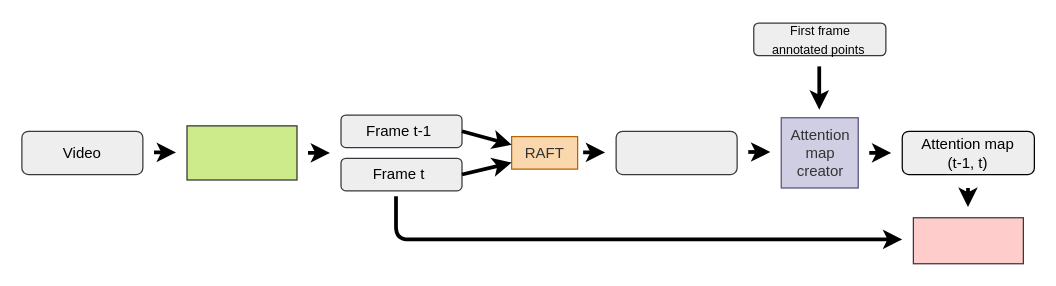
Some shapes in this 1056 by 286 pixel diagram are drawn without their labels. The centre of each missing label's shape, as x and y in pixels:
"Frame extractor" belongs at (241,152).
"Optical flow (t-1,t)" belongs at (676,152).
"U-Net with attention" belongs at (967,240).
